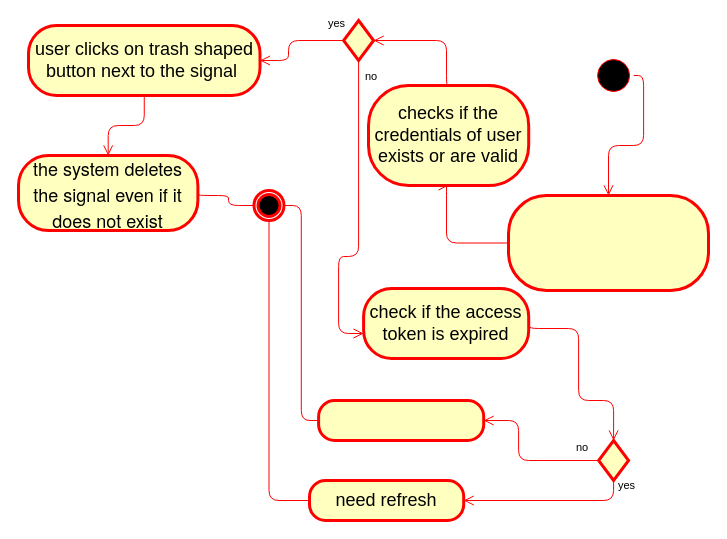
This 727x539 diagram has some shape labels left out. The shapes that lost their labels are listed below. From the top down, each one's centre as x and y in pixels, then its label:
At (x=608, y=243): "user selects one of the crypto currencies to see the related signals".
At (x=401, y=420): "error message".
